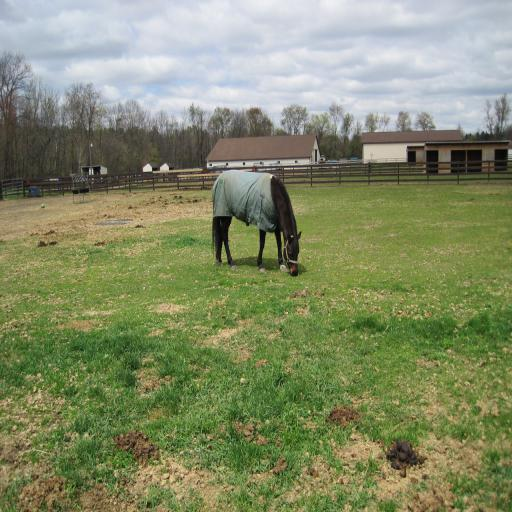Horse: (211, 168, 302, 274)
